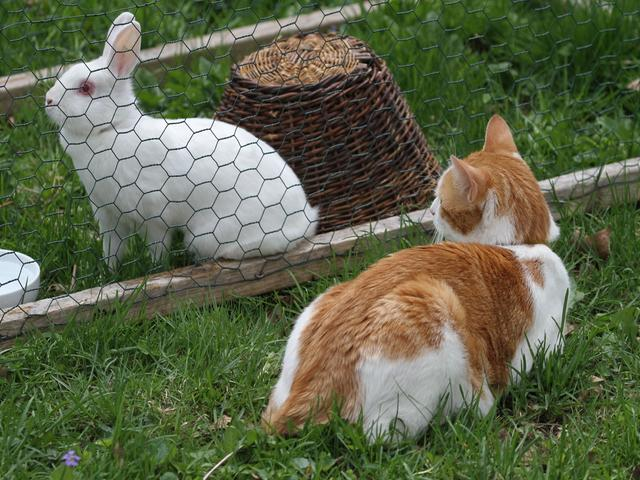cat: (240, 114, 623, 480)
rabbit: (37, 16, 341, 298)
